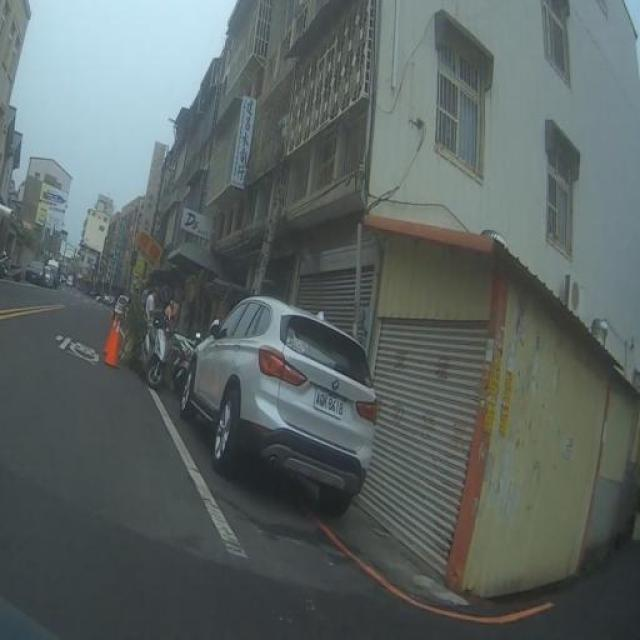illegalparking: (187, 288, 432, 543), (0, 236, 65, 299)
